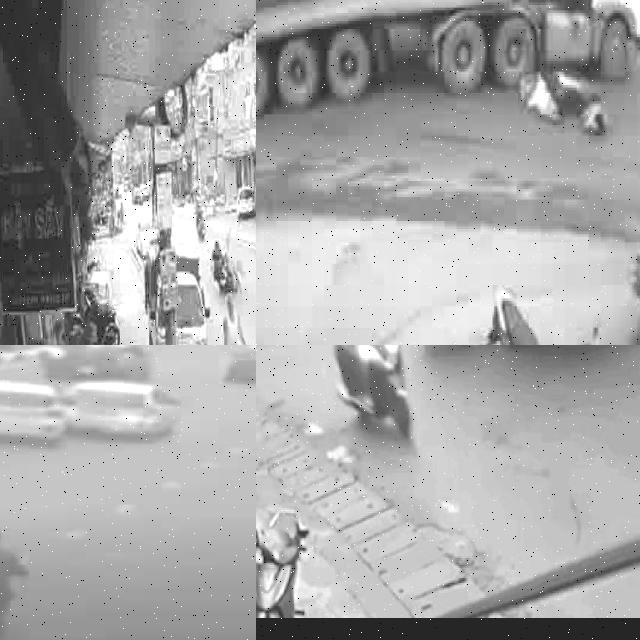multiple_accident: (478, 0, 616, 141), (0, 368, 192, 452), (207, 229, 253, 303)
